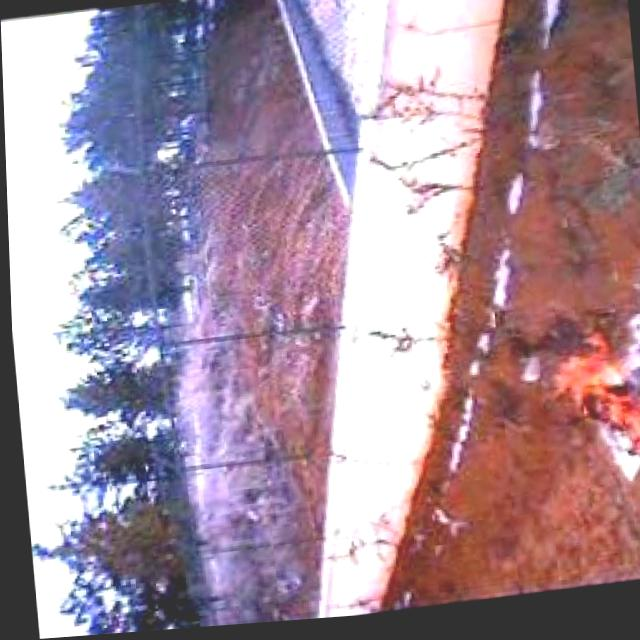helmet: (536, 317, 640, 478)
